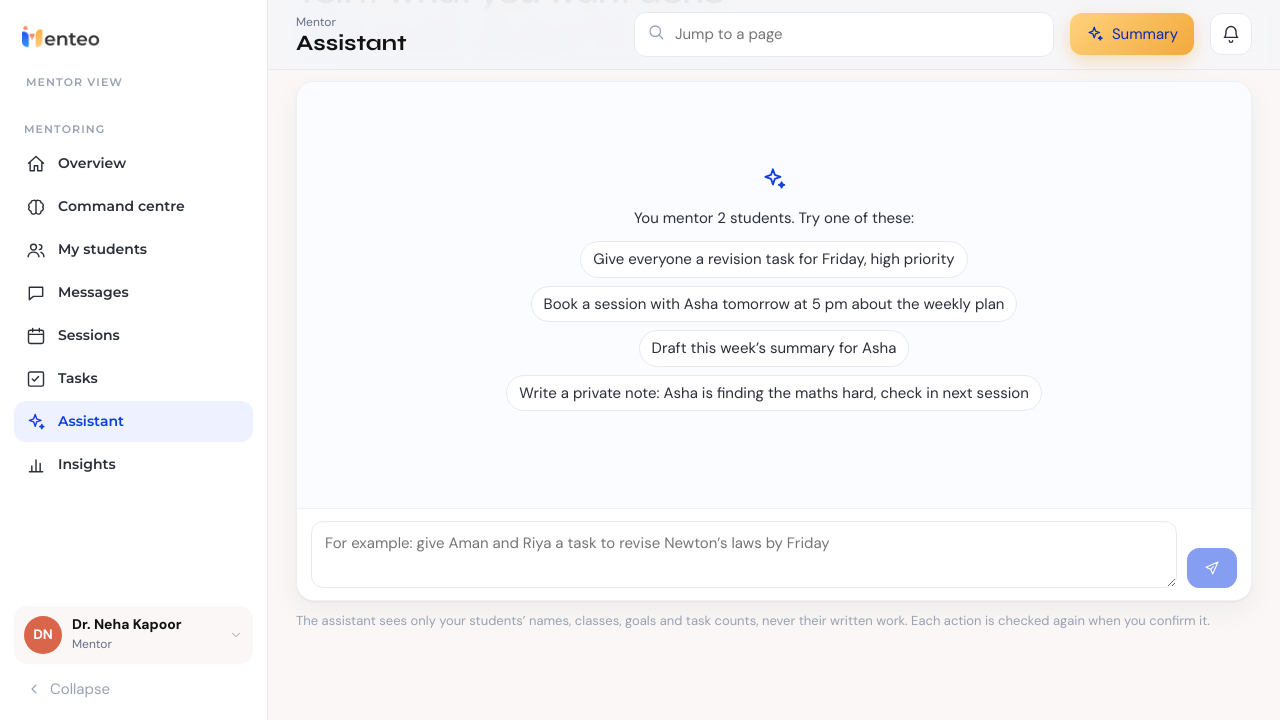
Test case: mentor: the desk › the assistant proposes; nothing happens until Confirm; a proposal it cannot do says why
(page scrolled)
Type "Give Asha a revision task" into the text box named "Message the assistant" at (744, 554), box left=311, top=521, right=1177, bottom=588
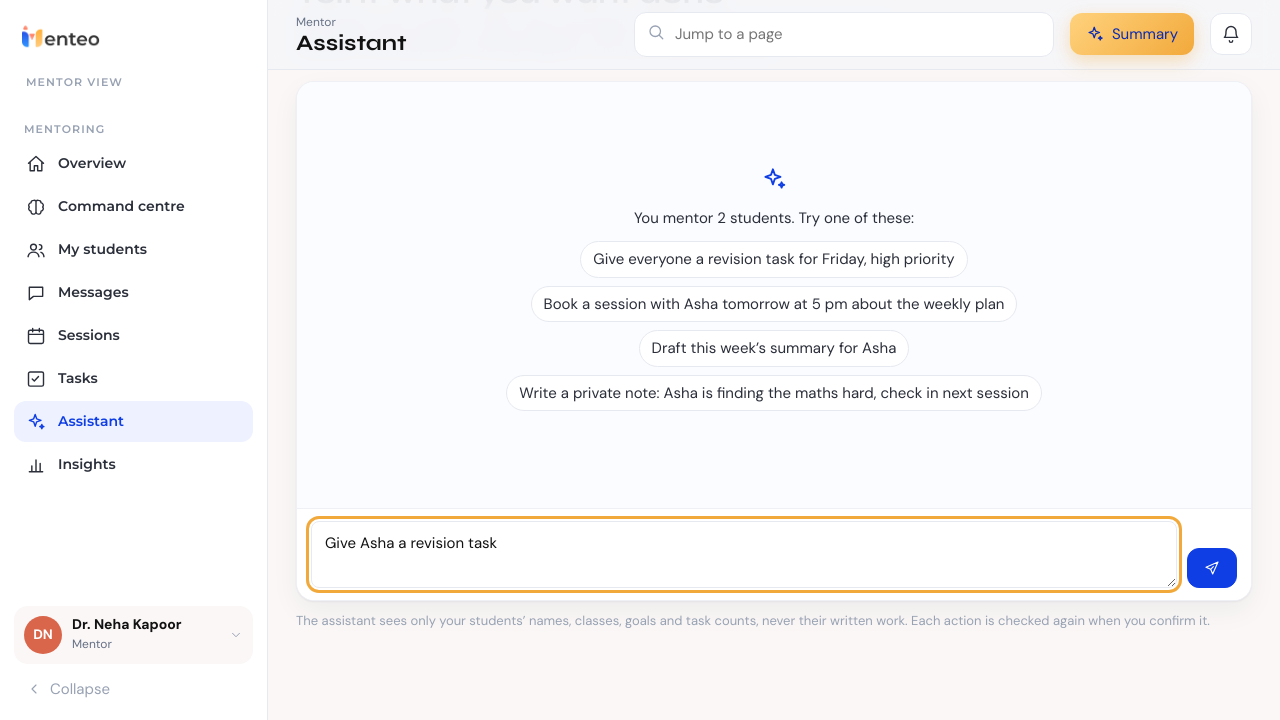
Click the button named "Send" at (1212, 568), box left=1187, top=548, right=1237, bottom=588
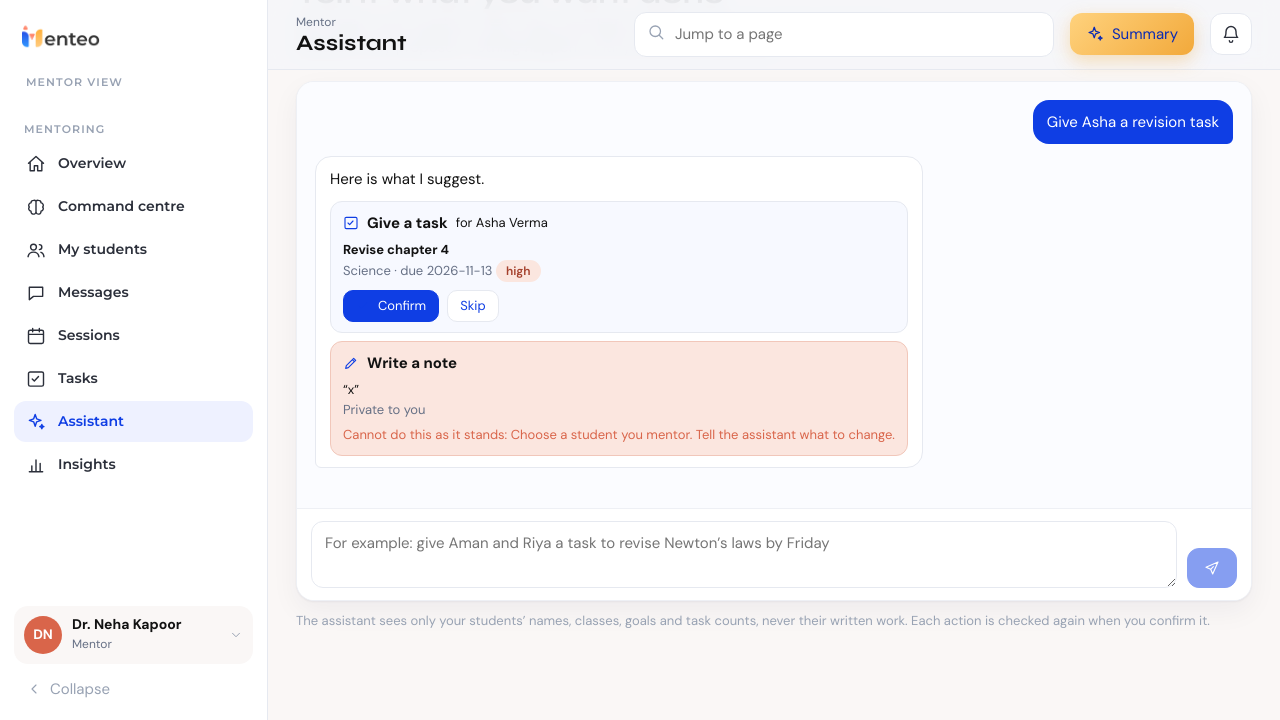
Expected: the text "Here is what I suggest." is shown, left=330, top=169, right=484, bottom=189
Expected: the text "Cannot do this as it stands: Choose a student you mentor" is shown, left=343, top=425, right=895, bottom=445
Expected: the number of buttons "Confirm" is 1
Click the button "Confirm" at (391, 306), box left=343, top=290, right=439, bottom=322
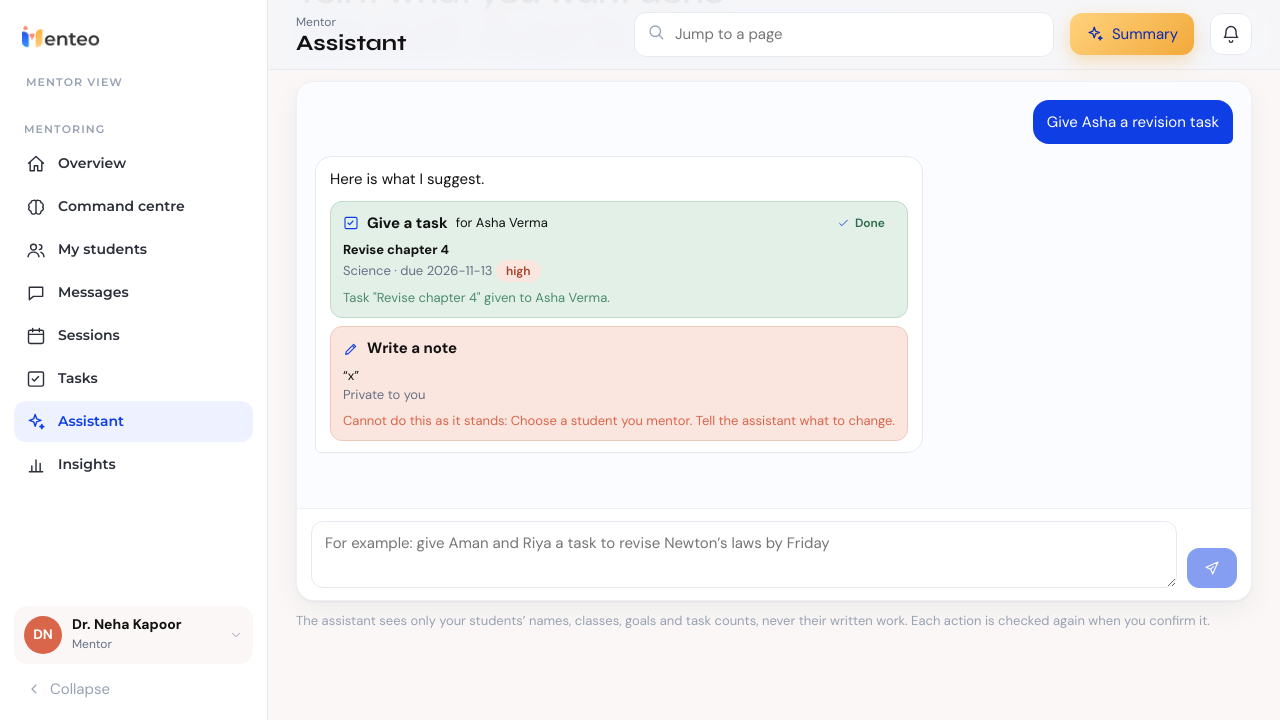
Expected: the text "Task \"Revise chapter 4\" given to Asha Verma." is shown, left=343, top=289, right=610, bottom=306
